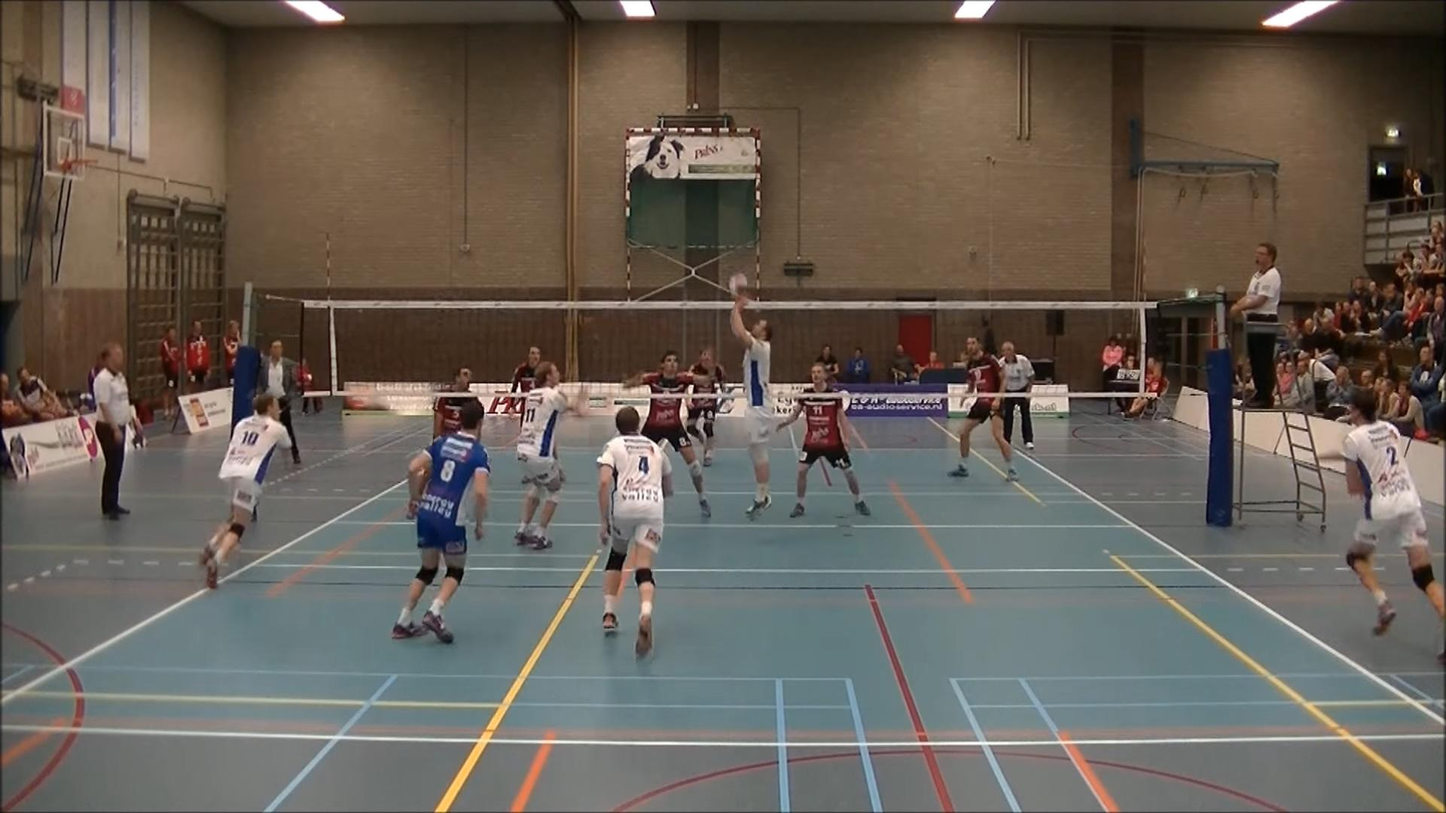Player: (1341, 388, 1445, 635), (392, 401, 489, 643), (597, 406, 672, 656), (200, 394, 291, 589), (777, 362, 870, 517), (624, 351, 710, 517), (514, 361, 575, 550), (949, 337, 1017, 481), (686, 348, 725, 466), (434, 367, 480, 439), (506, 346, 541, 413)
Set: (720, 285, 798, 524)
ball: (724, 267, 754, 304)
